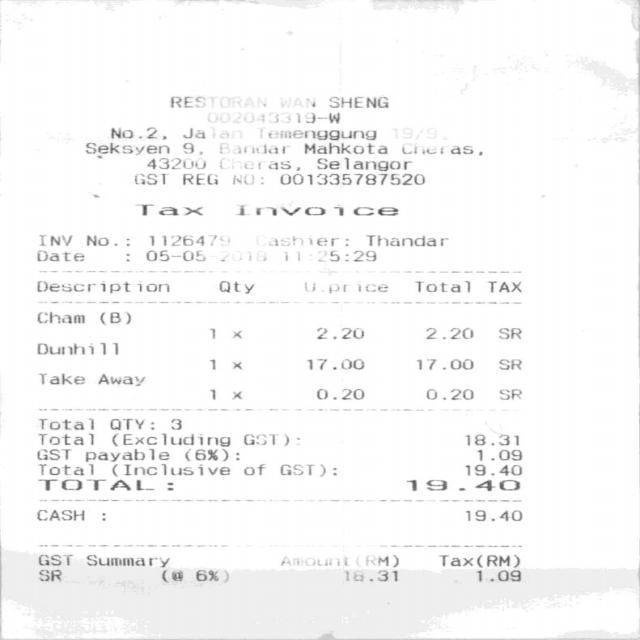text: (235, 204, 398, 216), (37, 478, 172, 491), (34, 279, 167, 292), (280, 173, 422, 185), (255, 126, 375, 140), (112, 433, 229, 447), (205, 111, 339, 123), (112, 463, 229, 476), (278, 554, 397, 566), (146, 250, 265, 261), (404, 480, 518, 491), (316, 157, 411, 170), (399, 141, 480, 155), (282, 249, 376, 261), (364, 234, 448, 247), (84, 448, 168, 461), (217, 157, 298, 170), (170, 96, 265, 107), (253, 235, 348, 246), (303, 281, 387, 293), (84, 554, 168, 566), (36, 342, 116, 354), (438, 554, 518, 566), (301, 142, 388, 153), (84, 142, 168, 153), (135, 203, 202, 215), (148, 235, 228, 245), (218, 142, 290, 153), (328, 96, 388, 108), (37, 432, 92, 445), (181, 126, 240, 138), (244, 433, 298, 446), (146, 157, 203, 169), (413, 280, 470, 292), (37, 417, 93, 429), (110, 127, 165, 139), (37, 463, 92, 475), (280, 464, 335, 476), (465, 509, 520, 521), (184, 449, 238, 461), (415, 358, 472, 369), (464, 464, 521, 475), (316, 326, 364, 339), (306, 358, 362, 369), (464, 434, 517, 445), (37, 311, 84, 323), (426, 327, 472, 339), (97, 373, 143, 385), (426, 388, 472, 400), (343, 570, 397, 580), (475, 569, 520, 581), (314, 388, 362, 399), (476, 449, 520, 461), (37, 250, 84, 261), (37, 373, 84, 384), (37, 509, 84, 520), (108, 418, 153, 429), (392, 127, 436, 138), (85, 235, 128, 246), (181, 173, 217, 185), (195, 569, 228, 582), (218, 281, 253, 293), (230, 172, 262, 185), (37, 554, 71, 566), (279, 96, 315, 107), (133, 173, 166, 185), (487, 280, 520, 292), (36, 448, 70, 459), (100, 311, 130, 323), (38, 234, 70, 245), (160, 569, 182, 582), (497, 327, 520, 339), (497, 388, 520, 400), (38, 569, 61, 581), (242, 463, 264, 475), (497, 359, 520, 369), (182, 142, 201, 154), (169, 418, 180, 429), (207, 388, 216, 399), (230, 330, 240, 338), (209, 328, 216, 338), (230, 361, 240, 368), (230, 391, 240, 398), (210, 359, 216, 369)
